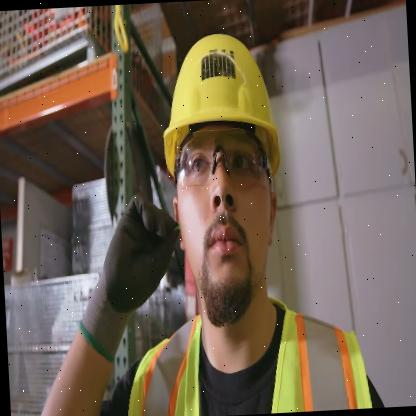capacete: (146, 27, 290, 164)
oculos: (169, 125, 273, 190)
